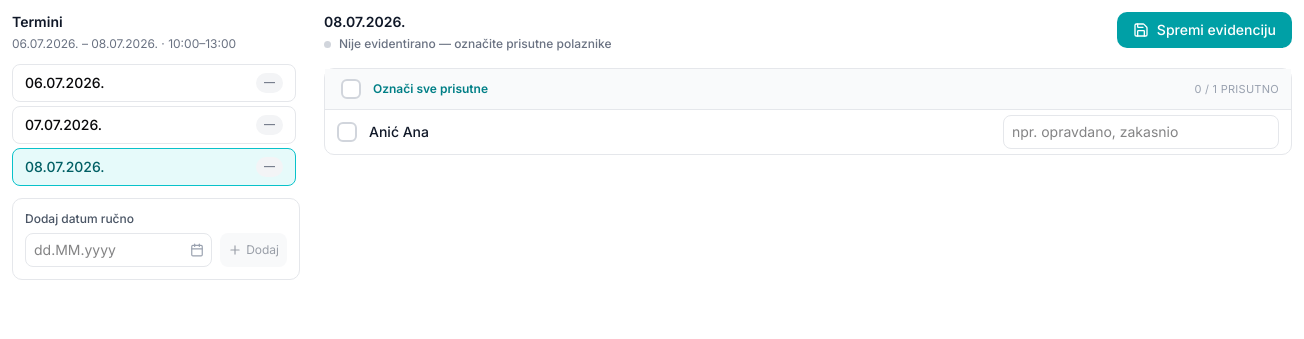
AttendanceMarker — removing a mistyped hand-added date › offers the × only on hand-added dates, never on server-listed ones
Type "15.07.2026" into the field labelled "Dodaj datum ručno". click: (119, 250)
box: [25,233,212,267]
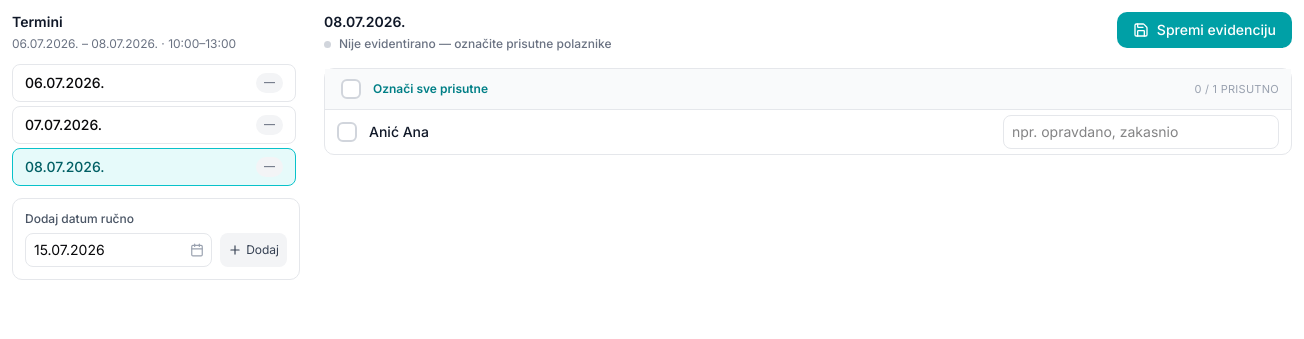
Click the button "Dodaj". click: click(254, 250)
box: [220,233,287,267]
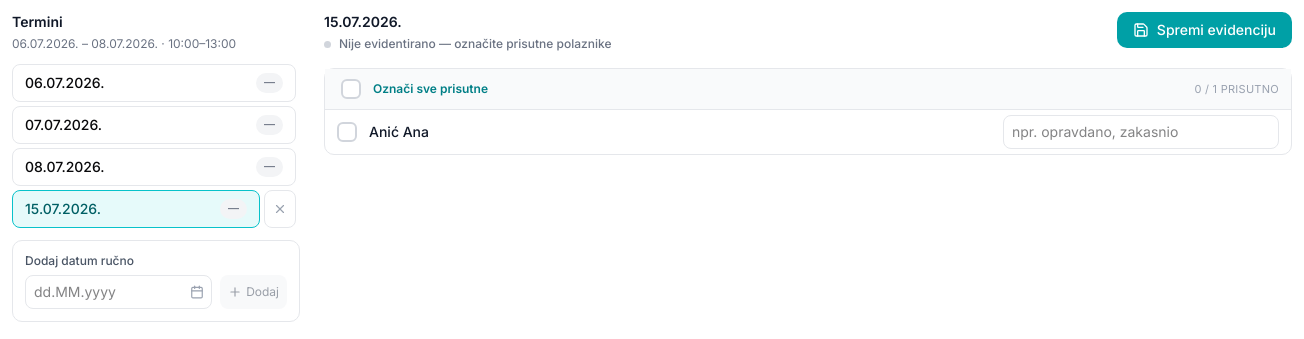
Now the number of buttons named "Ukloni ručno dodani datum" is 1, box [264,190,296,228]
